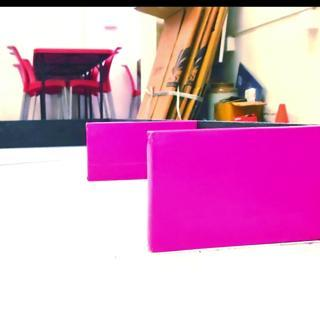xparking: (150, 129, 320, 249), (85, 119, 148, 179)
